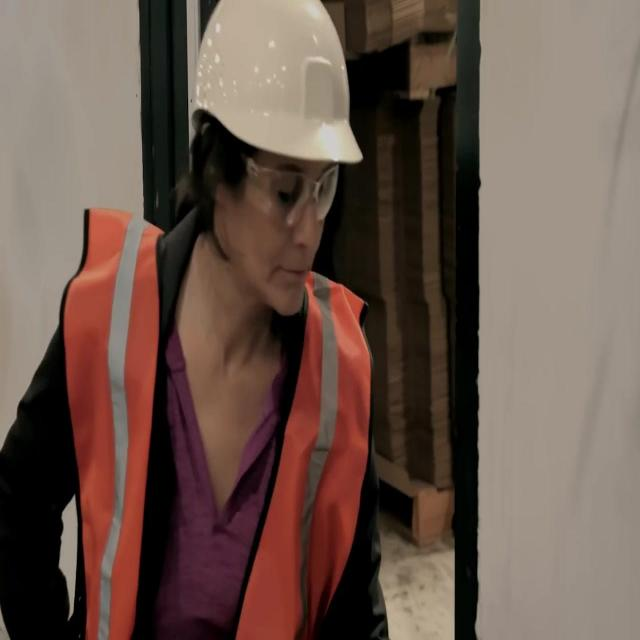Reflective-Jacket: (32, 218, 390, 628)
Safety-Helmet: (179, 4, 369, 190)
